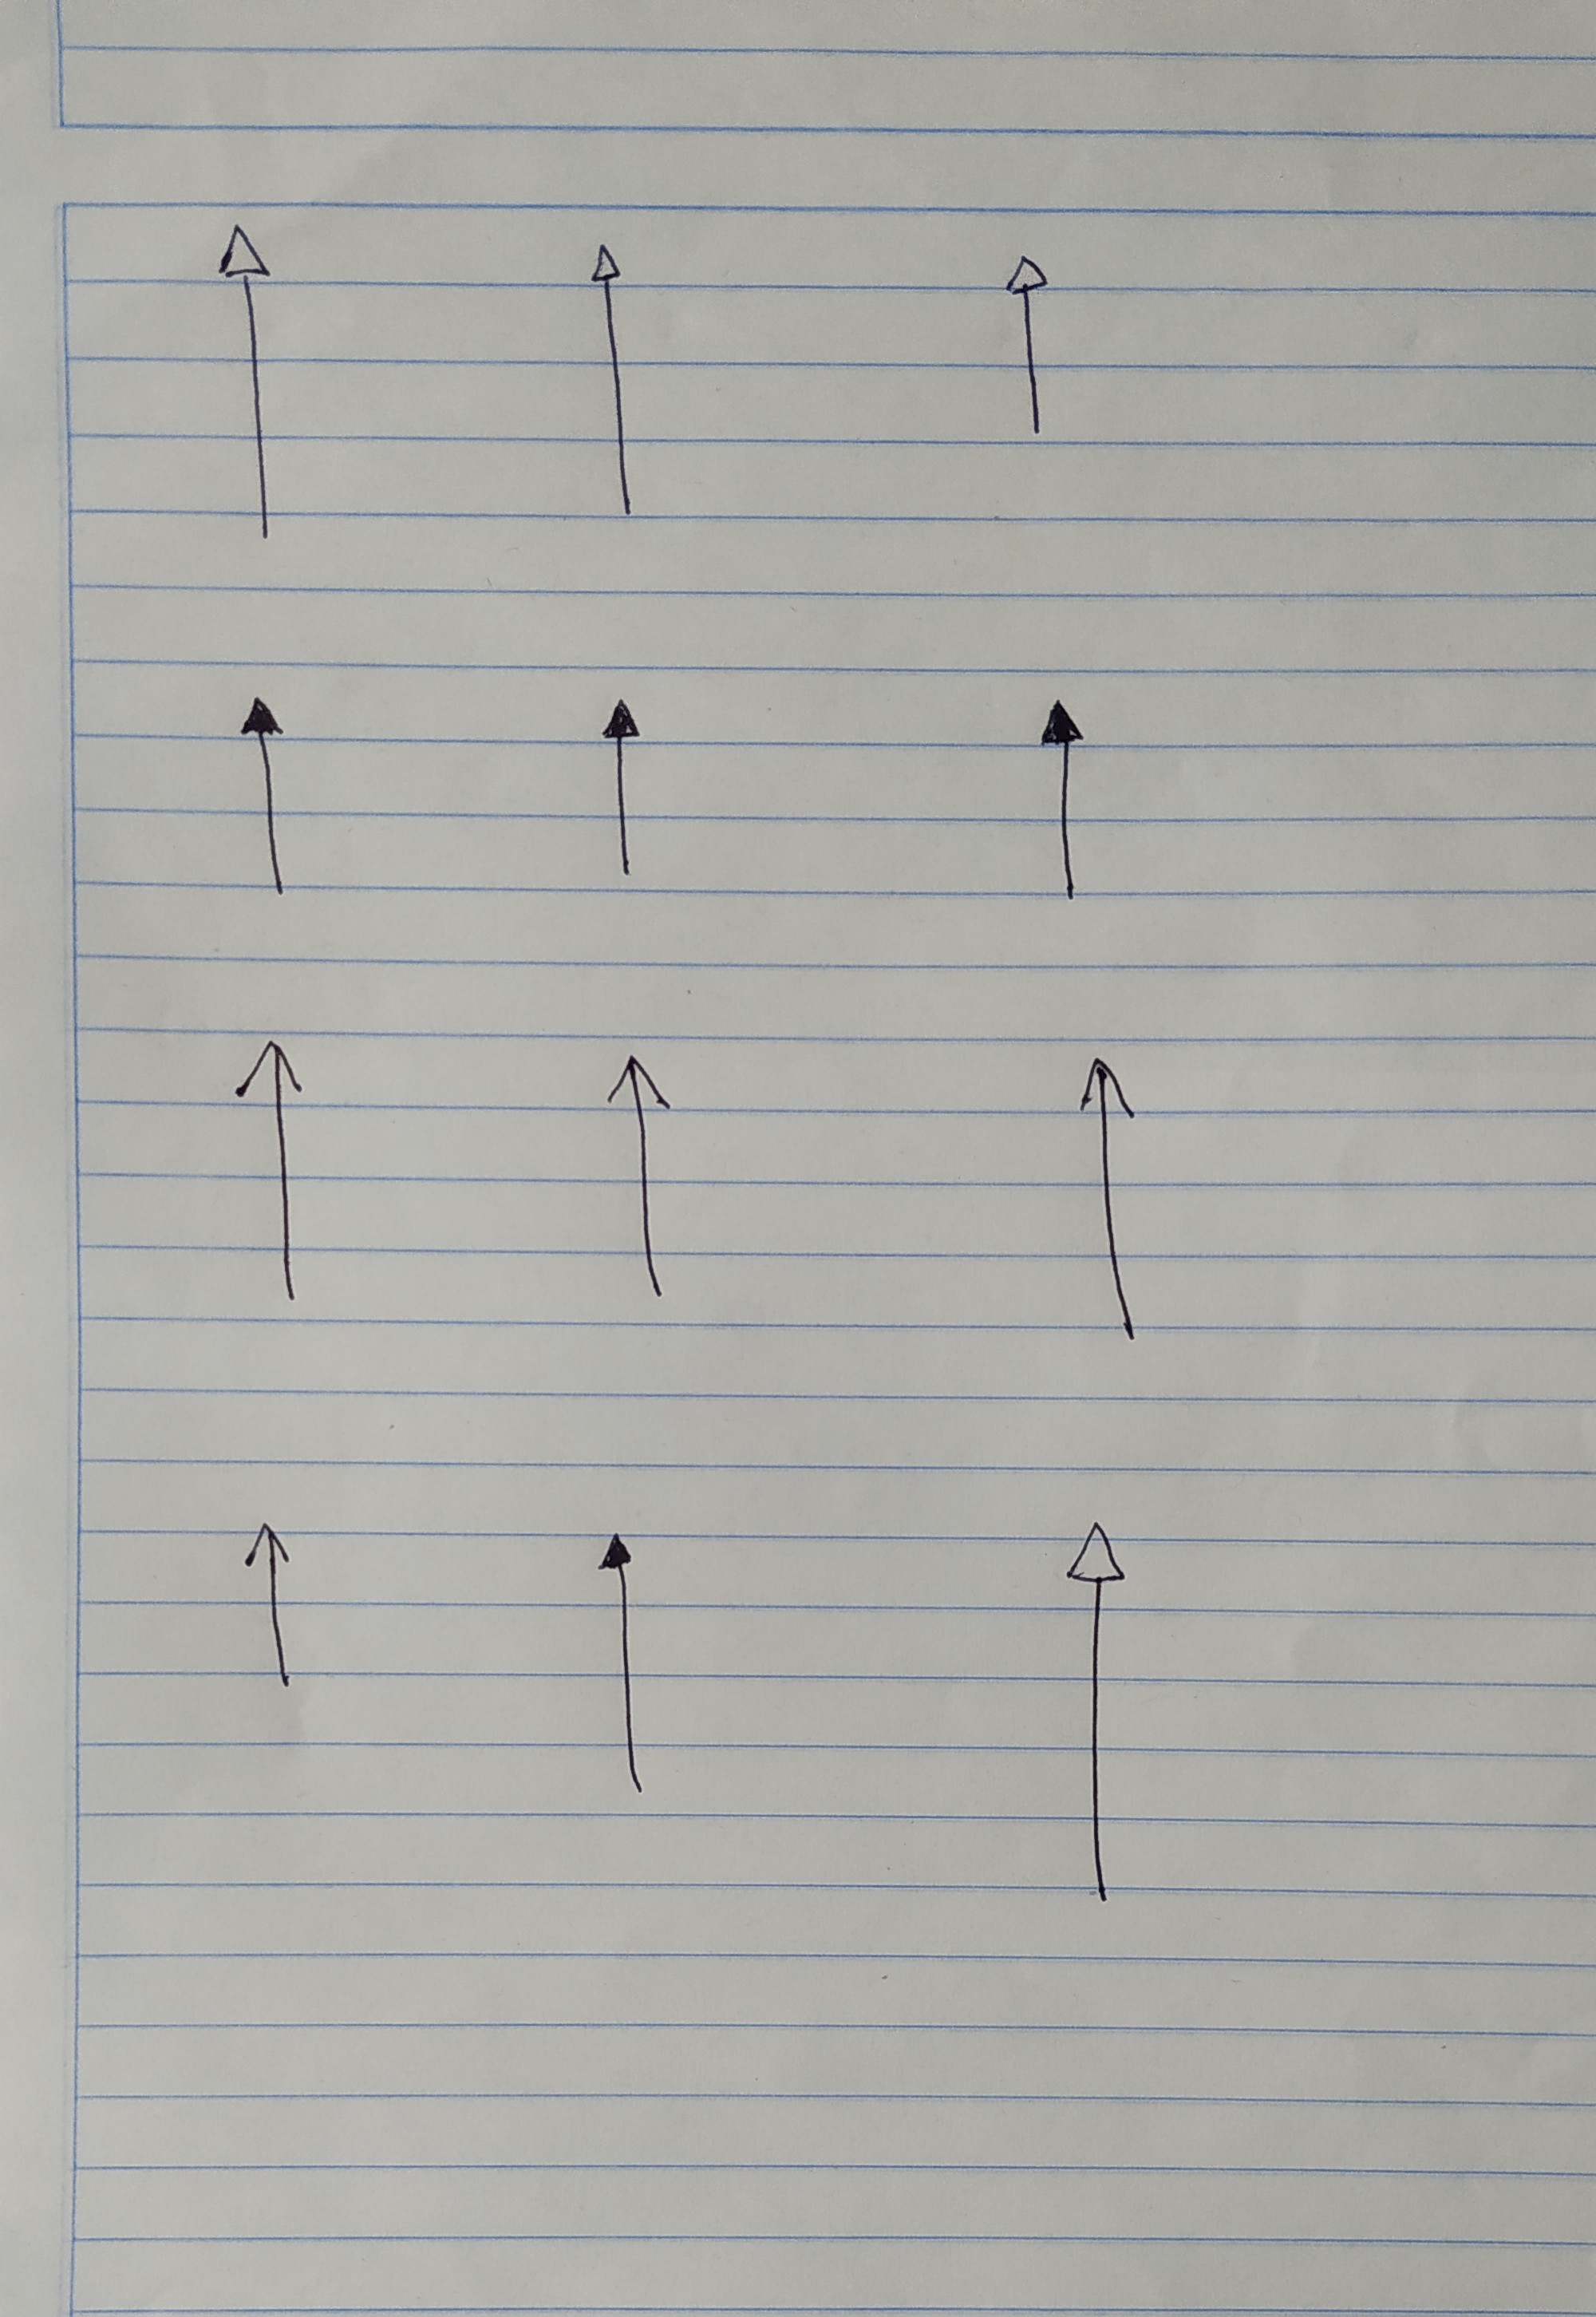arrow_line_up: (1065, 1516, 1126, 1907), (1073, 1055, 1151, 1352), (216, 220, 283, 548), (232, 1033, 304, 1313), (602, 1048, 677, 1308), (588, 243, 646, 526), (593, 1528, 653, 1796), (236, 695, 296, 903), (1038, 683, 1089, 908), (241, 1521, 303, 1695), (1003, 250, 1056, 447), (600, 690, 649, 889)
